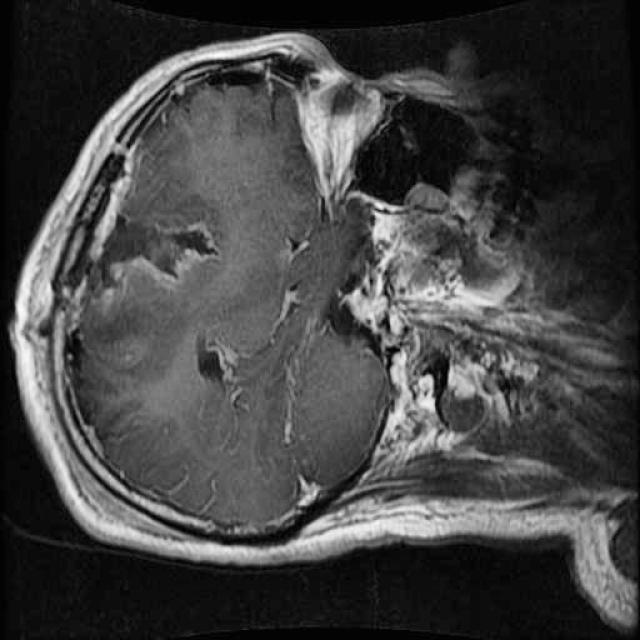Non-Tumor: (79, 200, 223, 306)
